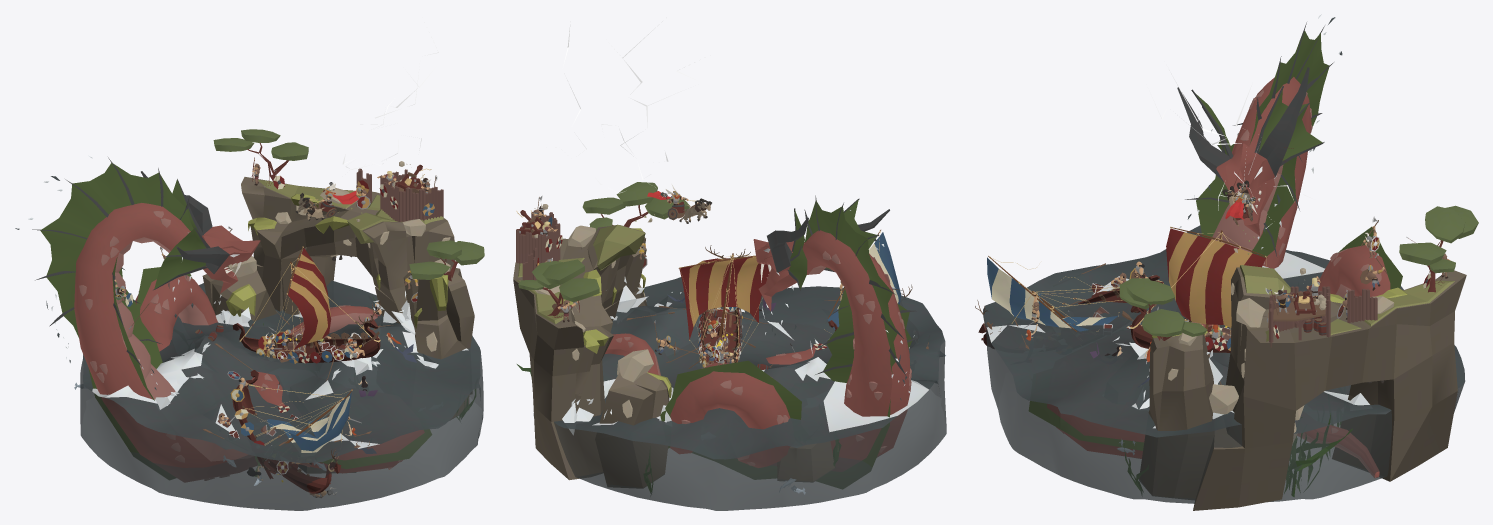
The model's file is midgard.glb.
3 views of the same model, side by side, from view 1: azimuth 30°, elevation 25°; view 2: azimuth 150°, elevation 25°; view 3: azimuth 270°, elevation 25° (orthographic). The views are drawn at different scales.
Parts seen in each view (by area): view 1: water, serpent, ship, rock, boat2, boat1; view 2: water, serpent, rock, ship, boat1; view 3: rock, water, ship, serpent, boat2, boat1.
Boxes of the visible parts, x1,y1,x2,y2 form: water: [80, 280, 483, 510]; serpent: [32, 157, 431, 481]; ship: [15, 22, 484, 497]; rock: [202, 177, 474, 472]; boat2: [232, 370, 341, 493]; boat1: [232, 300, 380, 362]; water: [533, 277, 946, 510]; serpent: [605, 195, 918, 488]; rock: [513, 224, 834, 487]; ship: [516, 17, 945, 494]; boat1: [700, 245, 750, 365]; rock: [1139, 265, 1466, 510]; water: [983, 225, 1465, 503]; ship: [986, 14, 1478, 497]; serpent: [1028, 22, 1402, 478]; boat2: [975, 275, 1163, 348]; boat1: [1130, 306, 1230, 352].
Bounding box in the file's own units: 48.85 × 46.55 × 46.96.
7 materials, 6 textured.
